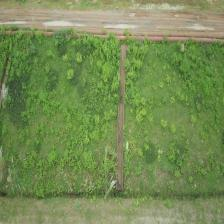slope_drain: (116, 44, 127, 190)
